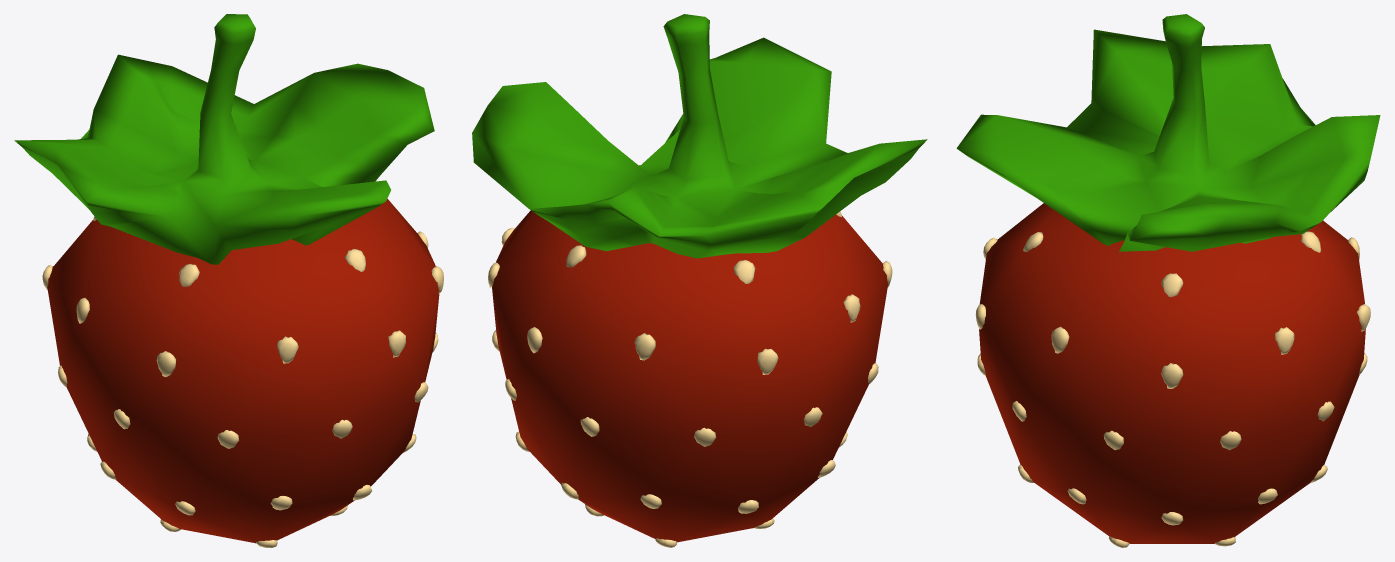
The model's file is strawberry_mult.fbx.
3 renders of one model, left to right at view 1: azimuth 30°, elevation 25°; view 2: azimuth 150°, elevation 25°; view 3: azimuth 270°, elevation 25°, orthographic.
Parts seen in each view (by area): view 1: stawberry_mult; view 2: stawberry_mult; view 3: stawberry_mult.
Boxes of the visible parts, left/top/right/bottom form: stawberry_mult: left=14, top=14, right=443, bottom=547; stawberry_mult: left=472, top=14, right=927, bottom=547; stawberry_mult: left=956, top=14, right=1380, bottom=547.
Size of the model in its own units: 230 by 297 by 222.
